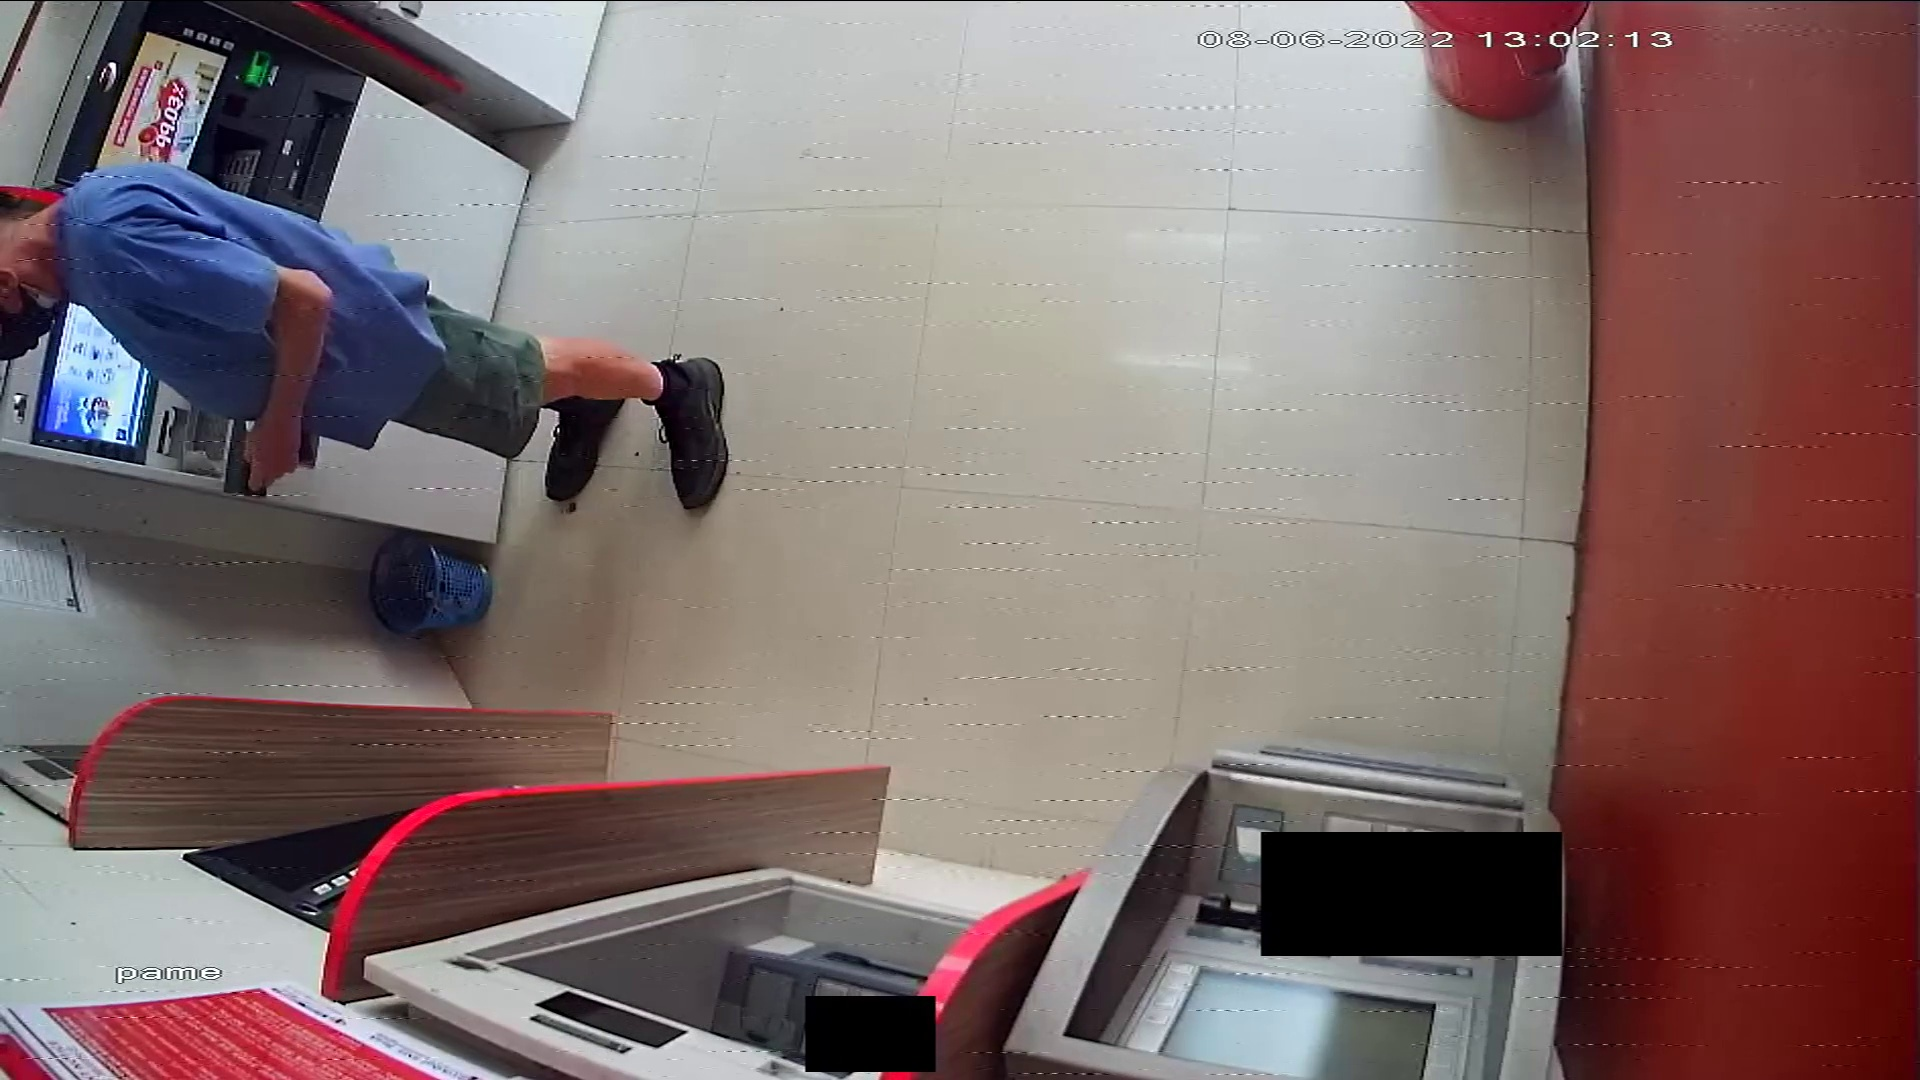person: (1, 159, 734, 519)
